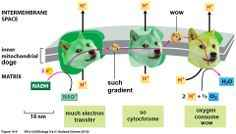doge: (186, 29, 222, 69), (129, 30, 165, 67), (61, 38, 101, 71)
